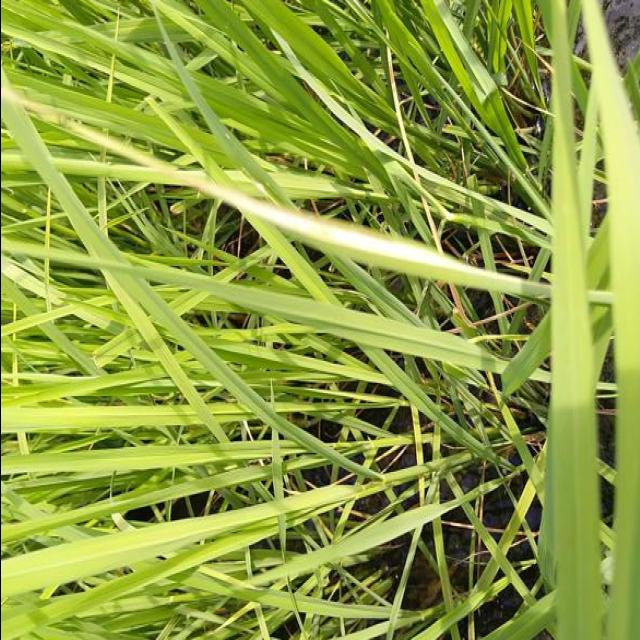Leaf Blight: (22, 99, 528, 281)
